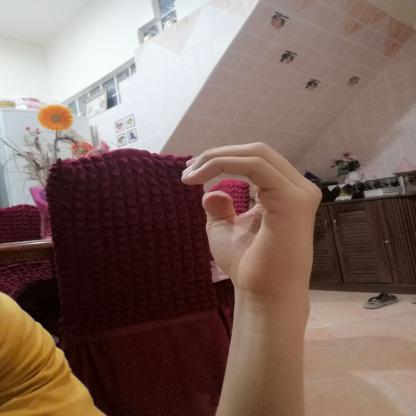JEEM: (164, 130, 341, 306)
